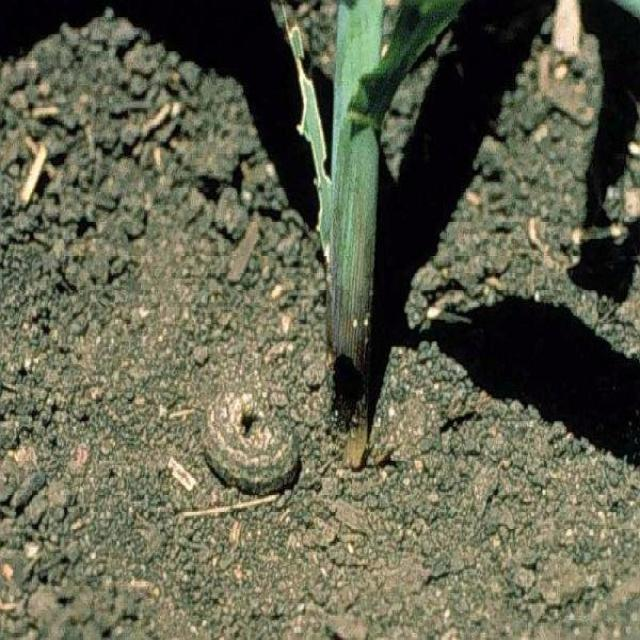black cutworm: (203, 389, 312, 492)
